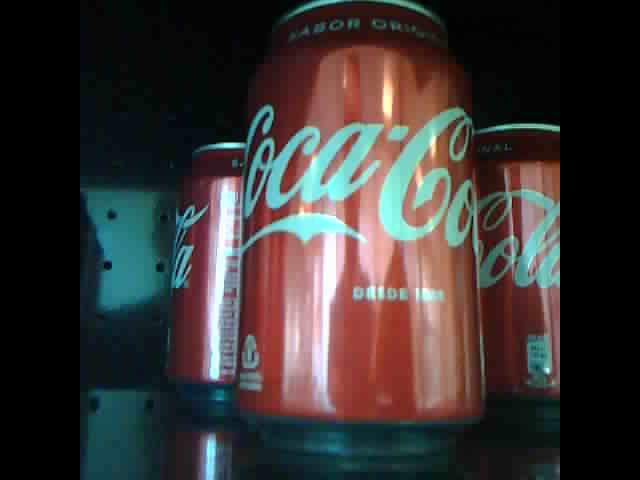coca cola: (233, 14, 489, 424), (473, 114, 560, 408), (168, 137, 244, 404)
